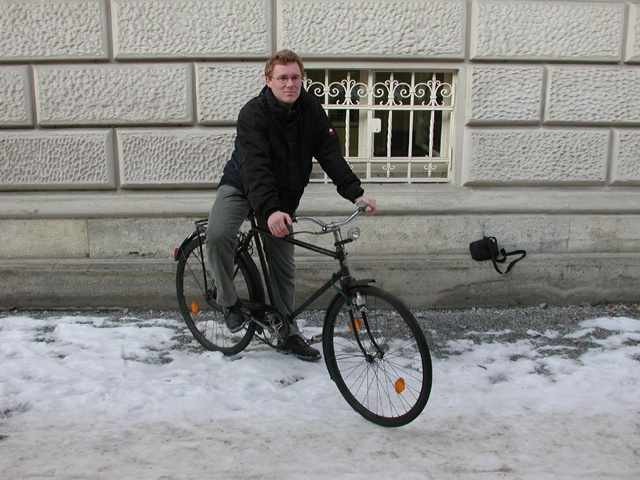person: (202, 44, 354, 369)
